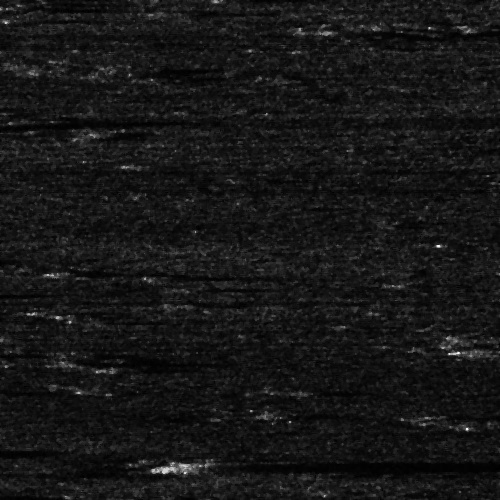object: (334, 336, 500, 361), (99, 456, 276, 473), (0, 356, 125, 365), (59, 496, 174, 500)
shadow: (187, 456, 500, 473), (63, 356, 197, 365), (117, 496, 345, 500), (0, 119, 91, 128), (0, 443, 34, 456), (0, 290, 16, 297)
